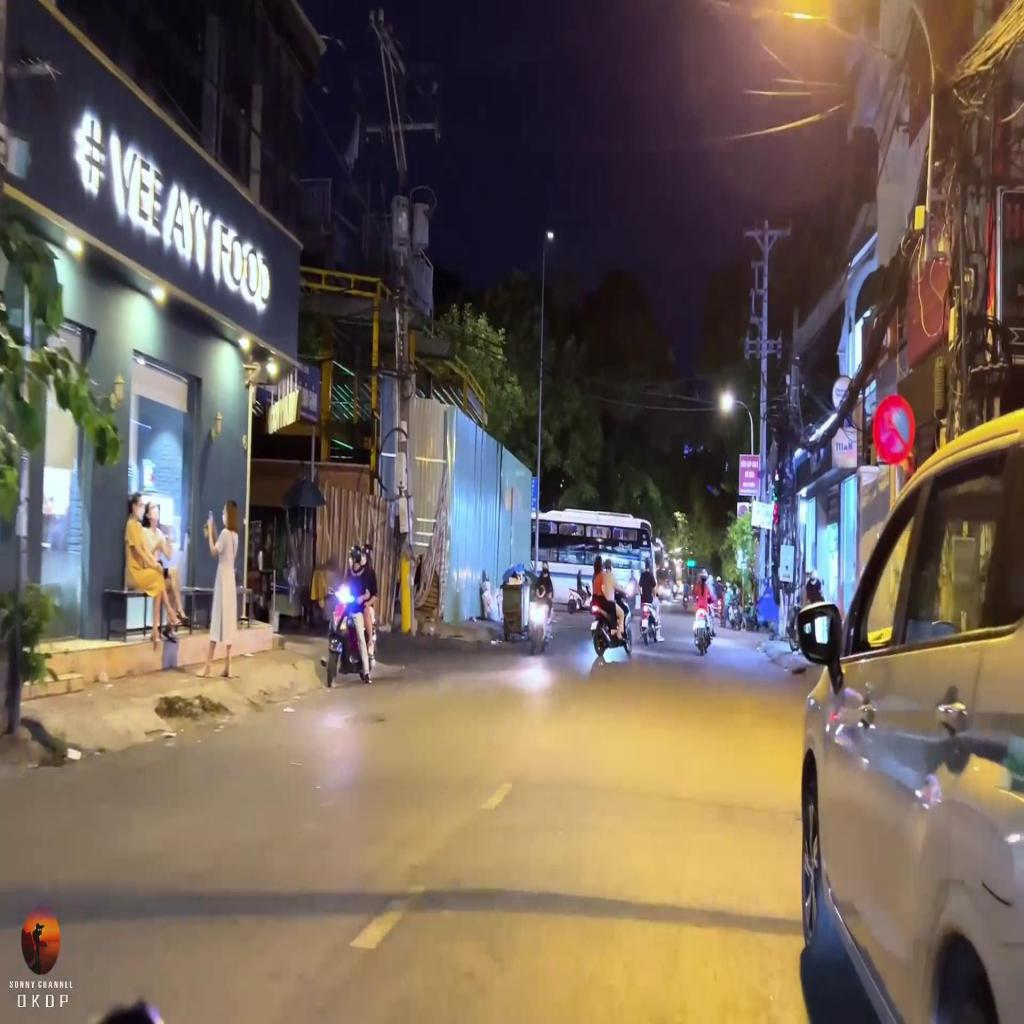cam_do_xe: (874, 394, 915, 464)
